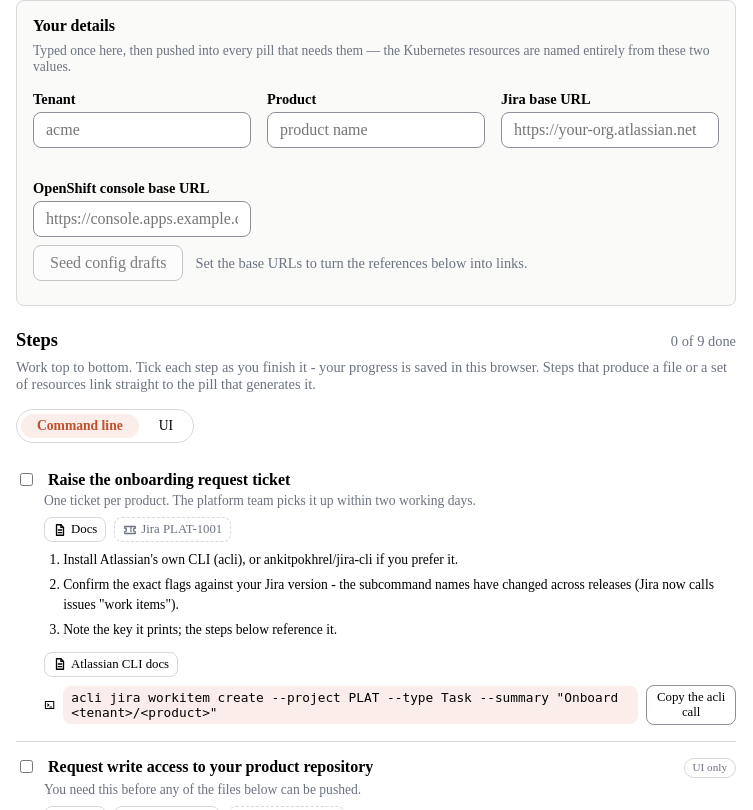
Test: OnboardingWorkspace › seeding › writes the tenant config and kubernetes drafts, and reports what it did
In the field labelled "Tenant": (142, 130) x1=33 y1=112 x2=251 y2=148, type "globex"
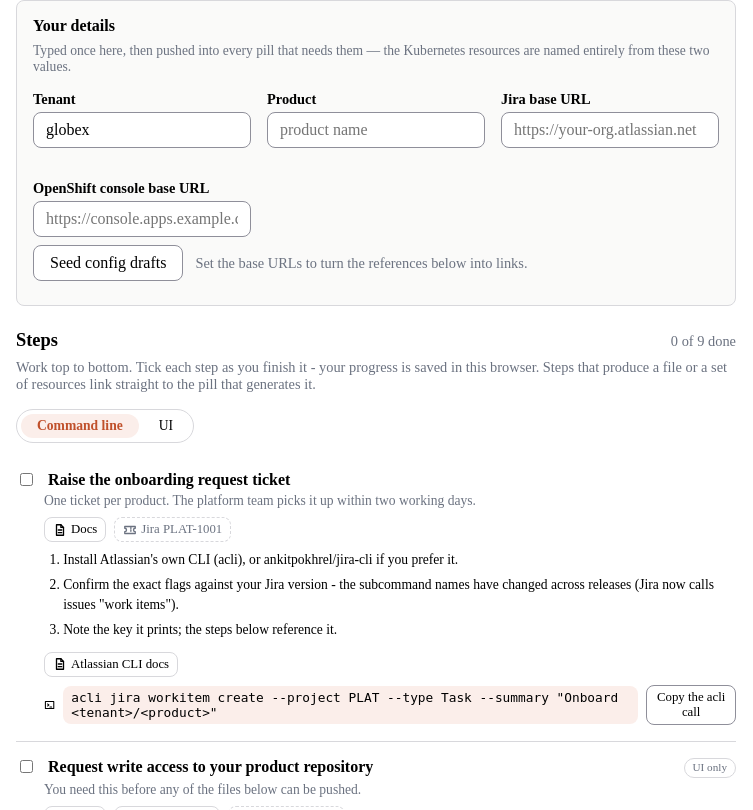
In the field labelled "Product": (376, 130) x1=267 y1=112 x2=485 y2=148, type "widgets"
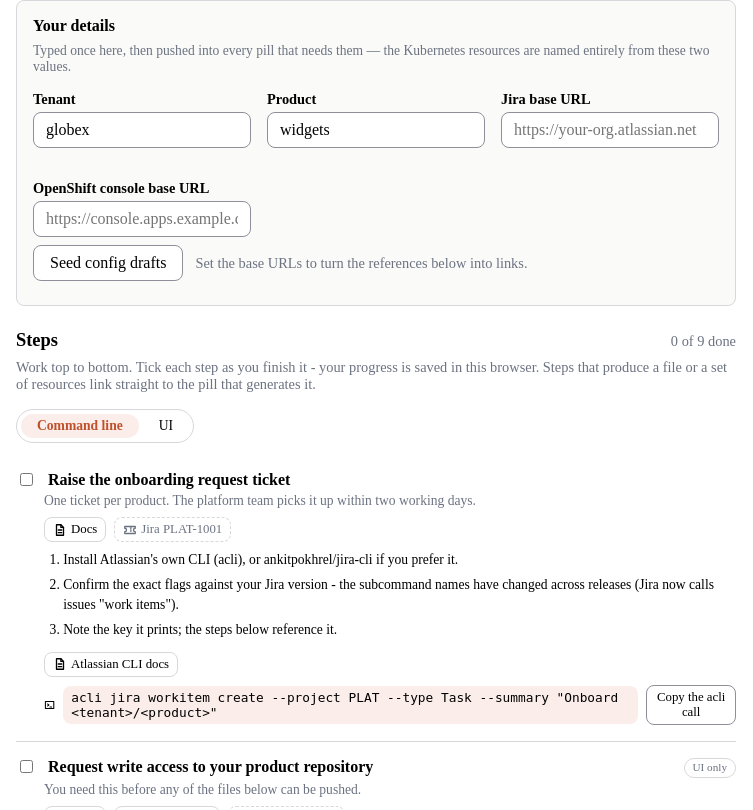
Click the button "Seed config drafts": (108, 263) x1=33 y1=245 x2=183 y2=281
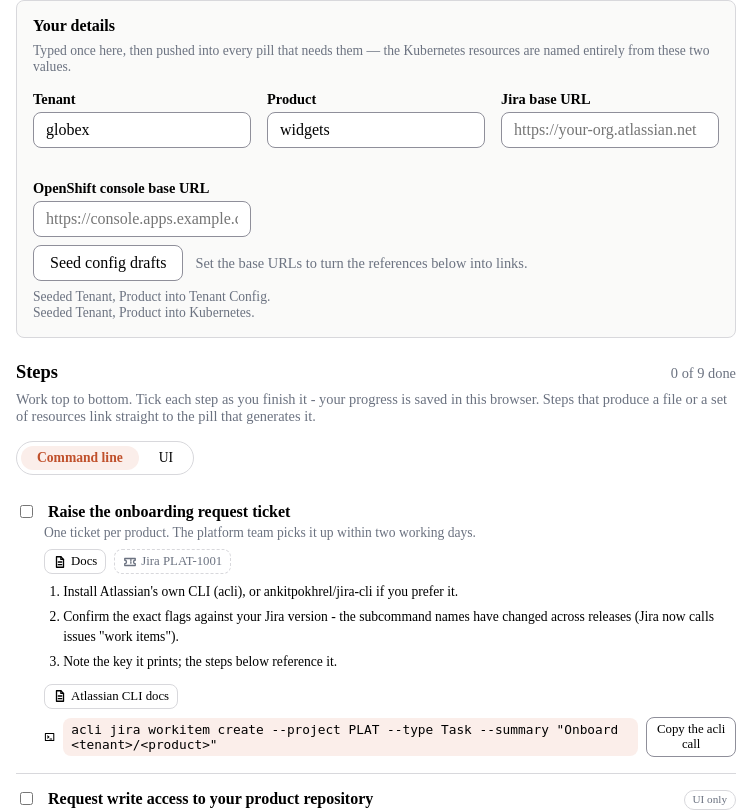
Check: the text "Seeded Tenant, Product into Tenant Config." is shown, box x1=33 y1=289 x2=270 y2=304
Check: the text "Seeded Tenant, Product into Kubernetes." is shown, box x1=33 y1=305 x2=254 y2=320
